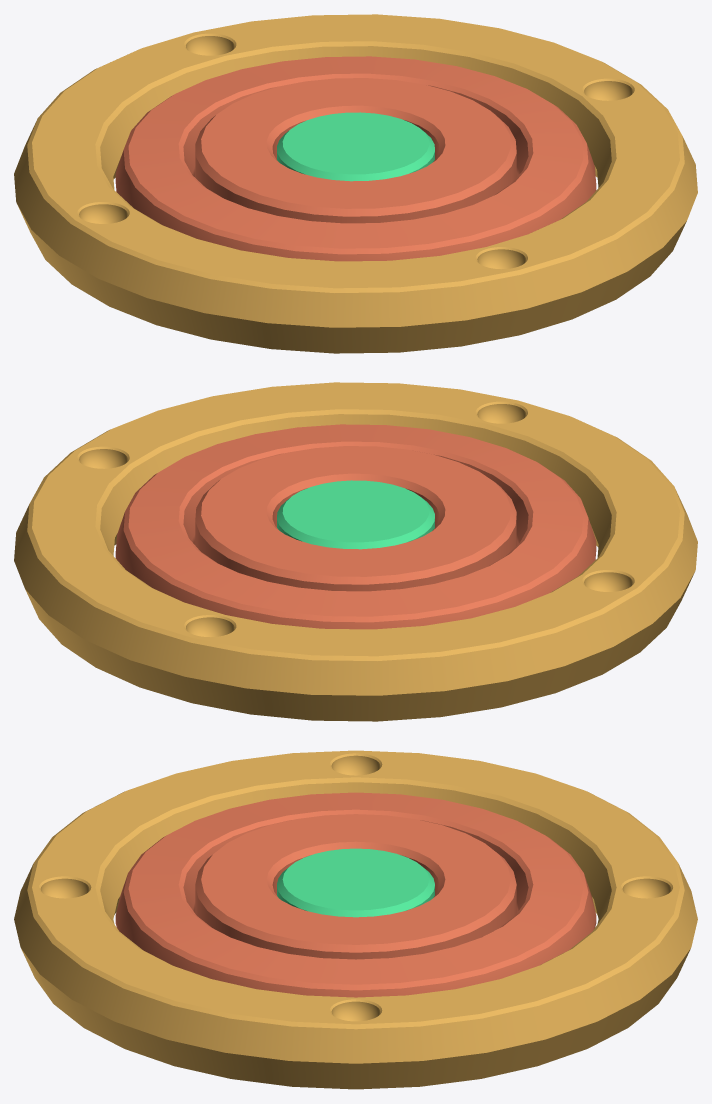
File: Central_Panel_Mayan.fbx
The picture shows the model from 3 angles, top to bottom: view 1: azimuth 30°, elevation 25°; view 2: azimuth 150°, elevation 25°; view 3: azimuth 270°, elevation 25°; orthographic projection.
Visible parts, largest first — view 1: Outer_Socket_Ring, Symbol_Ring, Inner_Ring, Dial_Innermost; view 2: Outer_Socket_Ring, Symbol_Ring, Inner_Ring, Dial_Innermost; view 3: Outer_Socket_Ring, Symbol_Ring, Inner_Ring, Dial_Innermost.
Part boxes in pixels (left/top/right/bottom): Outer_Socket_Ring: left=14, top=14, right=697, bottom=353; Symbol_Ring: left=115, top=56, right=596, bottom=261; Inner_Ring: left=195, top=78, right=516, bottom=223; Dial_Innermost: left=277, top=112, right=434, bottom=181; Outer_Socket_Ring: left=14, top=382, right=697, bottom=721; Symbol_Ring: left=115, top=424, right=596, bottom=629; Inner_Ring: left=195, top=446, right=516, bottom=591; Dial_Innermost: left=277, top=480, right=434, bottom=549; Outer_Socket_Ring: left=14, top=750, right=697, bottom=1089; Symbol_Ring: left=115, top=792, right=596, bottom=997; Inner_Ring: left=195, top=814, right=516, bottom=959; Dial_Innermost: left=277, top=848, right=434, bottom=917.
Size of the model in its own units: 234 by 30 by 234.
